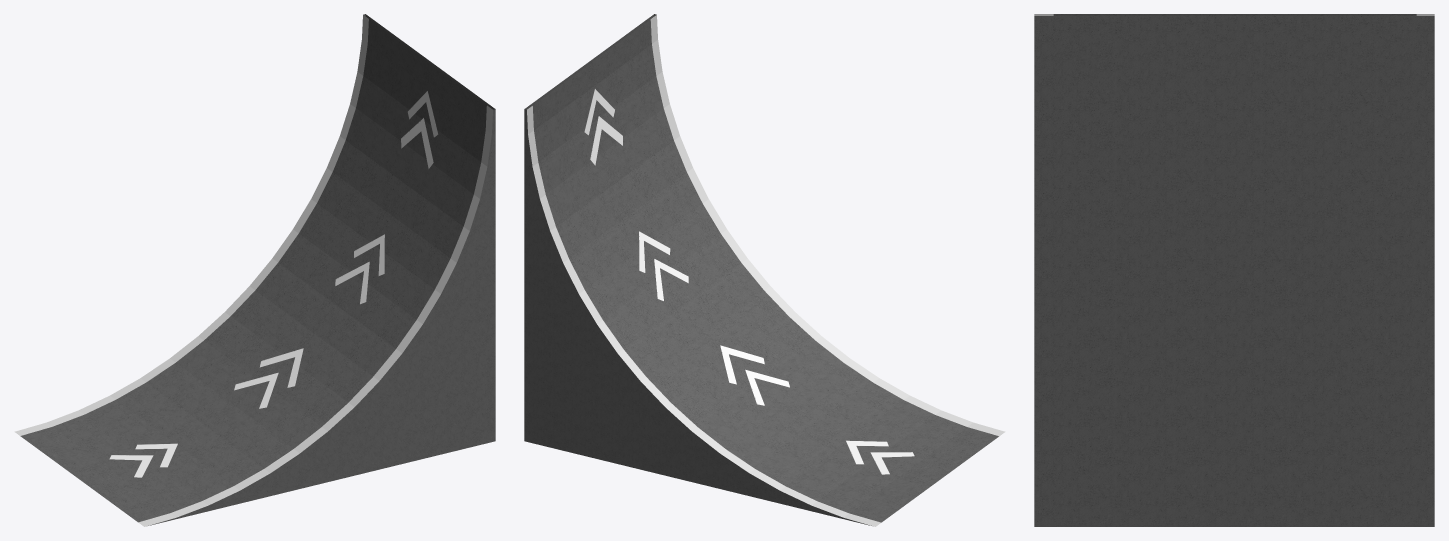
File: Ramp 8.fbx
The picture shows the model from 3 angles, left to right: view 1: azimuth 30°, elevation 25°; view 2: azimuth 150°, elevation 25°; view 3: azimuth 270°, elevation 25°; orthographic projection. The views are drawn at different scales.
Parts seen in each view (by area): view 1: Ramp, White arrow; view 2: Ramp, White arrow; view 3: Ramp.
Part boxes in pixels (bbox=[...]): Ramp: bbox=[14, 14, 495, 526]; White arrow: bbox=[109, 91, 438, 477]; Ramp: bbox=[524, 14, 1005, 526]; White arrow: bbox=[584, 89, 914, 474]; Ramp: bbox=[1034, 14, 1434, 526].
Bounding box in the file's own units: 801 × 723 × 513.
